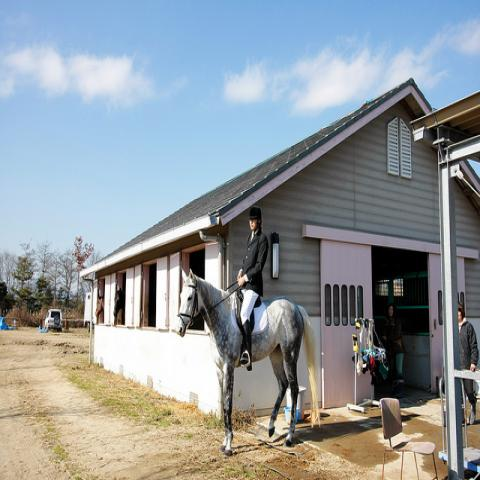car: (45, 308, 63, 332)
